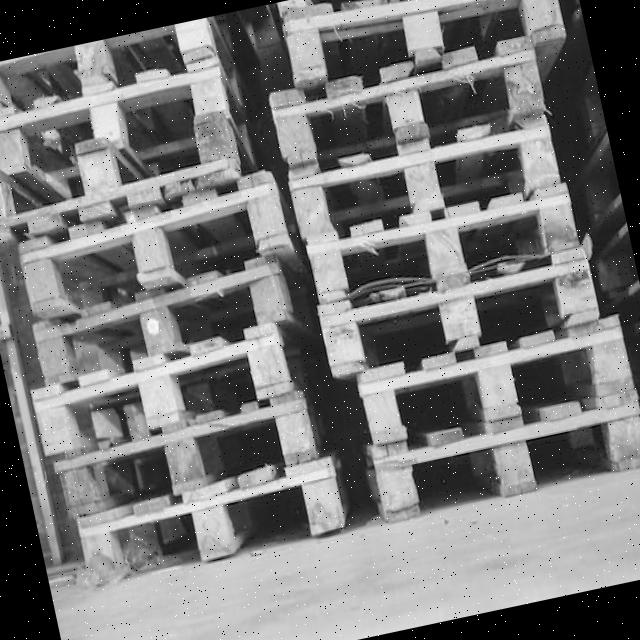Wooden-Pallets: (0, 163, 294, 313), (350, 307, 640, 458), (23, 250, 299, 406), (360, 377, 640, 528), (69, 445, 354, 588), (305, 174, 583, 310), (265, 37, 547, 168), (54, 389, 320, 512), (0, 51, 239, 176)
